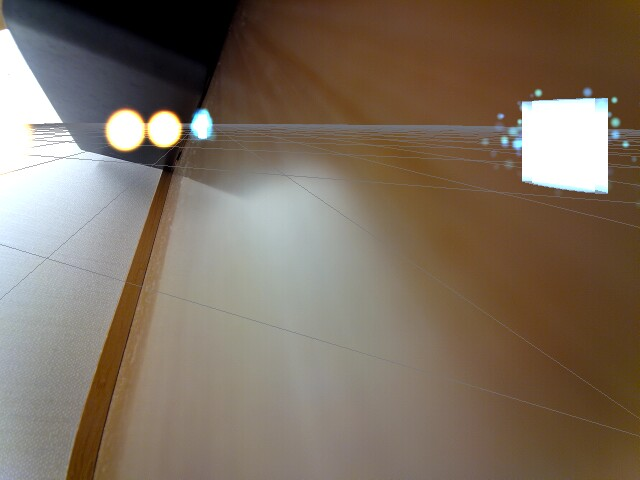firebig: (102, 101, 146, 158)
